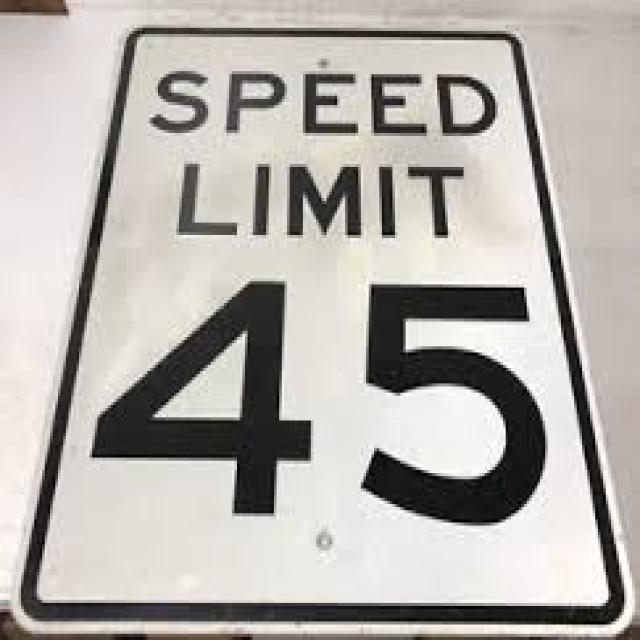speedLimit45: (12, 24, 605, 626)
